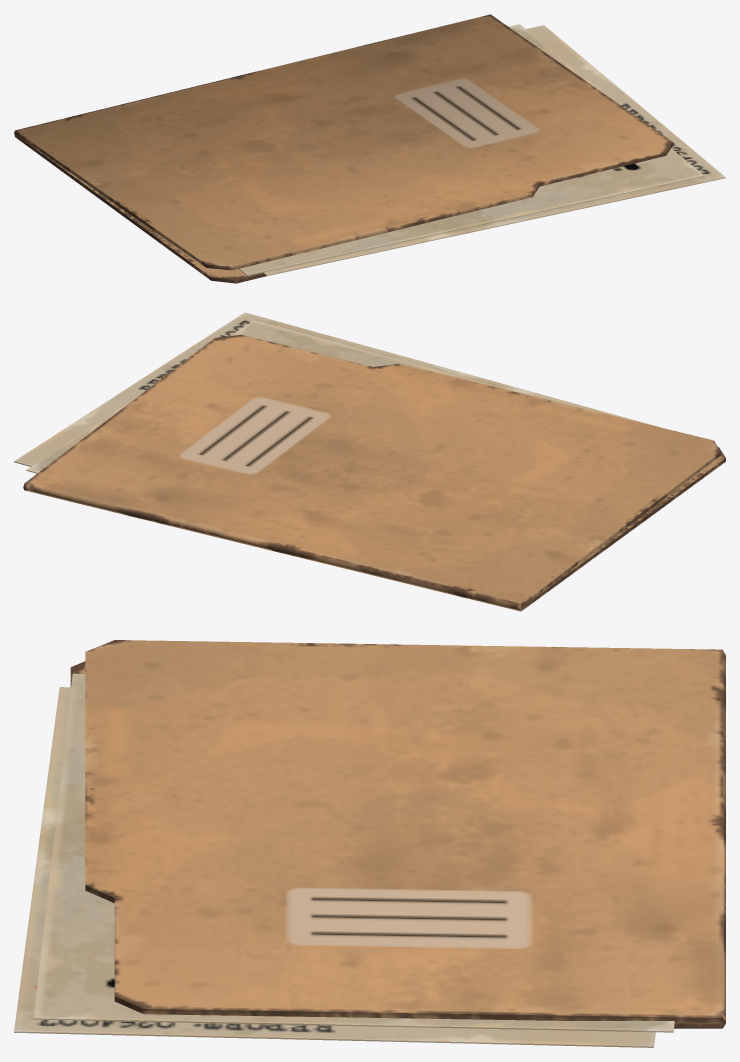
File: fileFolder01_B.fbx
The picture shows the model from 3 angles, top to bottom: view 1: azimuth 30°, elevation 25°; view 2: azimuth 150°, elevation 25°; view 3: azimuth 270°, elevation 25°; orthographic projection. The views are drawn at different scales.
Visible parts, largest first — view 1: fileFolder01_B; view 2: fileFolder01_B; view 3: fileFolder01_B.
Part boxes in pixels (bbox=[...]): fileFolder01_B: bbox=[14, 14, 725, 283]; fileFolder01_B: bbox=[14, 312, 725, 611]; fileFolder01_B: bbox=[14, 640, 725, 1047].
Bounding box in the file's own units: 31.78 × 0.7822 × 24.33.
